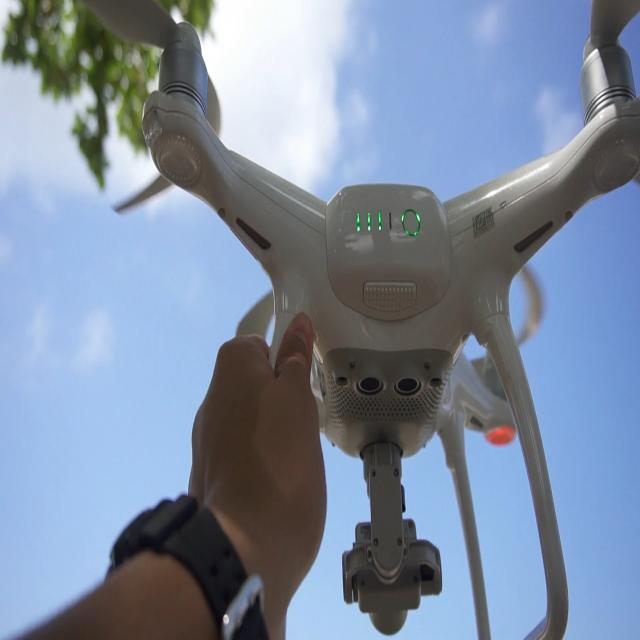Drone: (150, 13, 640, 640)
